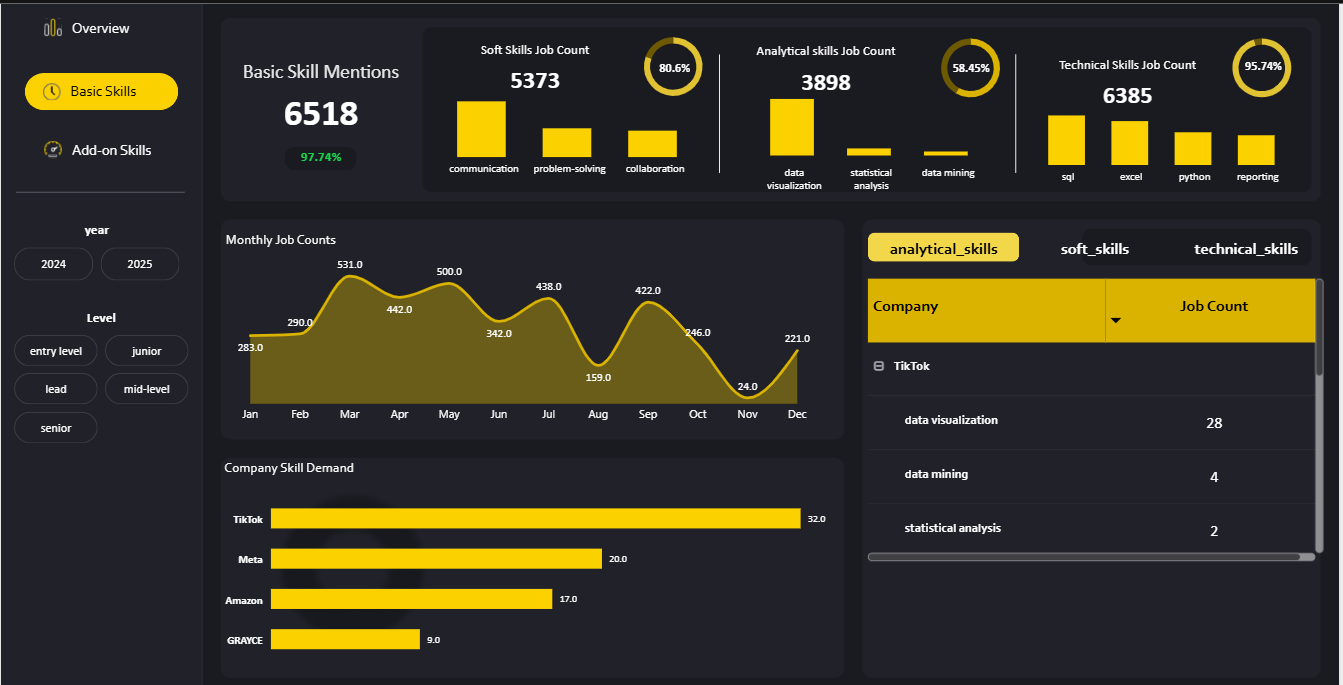

This screenshot's page, from the dashboard's own definition file:
{"tool":"powerbi","page":{"name":"Basic Skills","canvas":[1460,800],"ordinal":1},"visuals":[{"type":"donutChart","fields":{"Category":["MentionStatus.Status"],"Y":["MentionStatus.Soft Skill Split"]},"box":[680.6,68.7,106.2,90],"z":0},{"type":"donutChart","fields":{"Category":["MentionStatus.Status"],"Y":["MentionStatus.Analytical Skills % Split"]},"box":[1007,70.2,100.3,90.2],"z":1000},{"type":"donutChart","fields":{"Y":["MentionStatus.Technical Skills % Split"],"Category":["MentionStatus.Status"]},"box":[1325.5,70.2,100.3,90.2],"z":2000},{"type":"pivotTable","fields":{"Rows":["dim_company.company_name","dim_skills.skill_name"],"Values":["Measures (3).Job Count by Selected Skills"]},"box":[941.1,340.1,506.7,317.9],"z":3000},{"type":"clusteredBarChart","title":"Company Skill Demand","fields":{"Category":["dim_company.company_name"],"Y":["Measures (3).Job Count by Selected Skills"]},"box":[237.9,541.6,666.8,231.6],"z":4000},{"type":"cardVisual","fields":{"Data":["Measures (3).Skill Mentions"]},"box":[245.8,77.1,207.9,136.7],"z":5000},{"type":"shape","box":[309.7,200.2,78.5,25.8],"z":6000},{"type":"card","fields":{"Values":["Measures (3).Overall % of Skill Mentions"]},"box":[305,197,88,34],"z":7000},{"type":"shape","box":[777.5,98.9,13.1,129.4],"z":8000},{"type":"shape","box":[1099.8,98.9,13.1,129.4],"z":9000},{"type":"card","fields":{"Values":["Measures (3).Soft Skills % of All Jobs"]},"box":[687.8,88.4,93.1,55.3],"z":10000},{"type":"card","fields":{"Values":["Measures (3).Programming languages % of All Jobs"]},"box":[1020.1,92,77.1,49.4],"z":11000},{"type":"card","fields":{"Values":["Measures (3).Data Analysis % of All Jobs"]},"box":[1341.5,90.5,71.3,49.4],"z":12000},{"type":"cardVisual","fields":{"Data":["Measures (3).Soft Skills Job Count"]},"box":[471.2,60.7,222.5,106.2],"z":13000},{"type":"cardVisual","fields":{"Data":["Measures (3).Programming Languages Job Count"]},"box":[790,64.3,221.4,105.7],"z":14000},{"type":"cardVisual","fields":{"Data":["Measures (3).Data Analysis Job Count"]},"box":[1118.6,77.1,222.9,107.1],"z":15000},{"type":"clusteredColumnChart","fields":{"Category":["dim_skills.skill_name"],"Y":["CountNonNull(bridge_job_skill.job_id)"]},"box":[455.7,131.4,330,110],"z":16000},{"type":"areaChart","fields":{"Category":["dim_dates.full_date Hierarchy.Short Month"],"Y":["Measures (3).Job Count by Selected Skills"]},"box":[245.7,310,650,201.4],"z":17000},{"type":"advancedSlicerVisual","fields":{"Values":["dim_category.category_name"]},"box":[940.7,289.6,507.1,42.3],"z":18000},{"type":"actionButton","box":[25.8,120.3,167.6,40.6],"z":19000},{"type":"advancedSlicerVisual","fields":{"Values":["dim_dates.year"]},"box":[10,282,190,69],"z":23000},{"type":"advancedSlicerVisual","fields":{"Values":["dim_senority_level.seniority_level"]},"box":[10,377,200,151],"z":24000},{"type":"shape","box":[16.9,239.6,184.1,20.3],"z":25000},{"type":"shape","box":[237.4,0,276.8,40.6],"z":26000},{"type":"shape","box":[245.7,287.3,347,29.2],"z":27000},{"type":"actionButton","box":[0,0,100,40],"z":28000},{"type":"clusteredColumnChart","fields":{"Category":["dim_skills.skill_name"],"Y":["CountNonNull(bridge_job_skill.job_id)"]},"box":[782.9,128.6,315.7,130],"z":29000},{"type":"clusteredColumnChart","fields":{"Category":["dim_skills.skill_name"],"Y":["CountNonNull(bridge_job_skill.job_id)"]},"box":[1110,138.2,315.5,111.8],"z":30000},{"type":"actionButton","box":[26.7,183.3,166.7,41.7],"z":31000},{"type":"actionButton","box":[26.7,50,166.7,40],"z":32000}]}

Visuals, with their boxes on the page's 1460x800 design canvas (x1, y1, x2, y2). These are canvas units, not pixel positions in the 1343x685 screenshot, which may show the page scaled, cropped or inside an application window:
donutChart - MentionStatus.Status x MentionStatus.Soft Skill Split: {"left": 681, "top": 69, "right": 787, "bottom": 159}
donutChart - MentionStatus.Status x MentionStatus.Analytical Skills % Split: {"left": 1007, "top": 70, "right": 1107, "bottom": 160}
donutChart - MentionStatus.Technical Skills % Split x MentionStatus.Status: {"left": 1326, "top": 70, "right": 1426, "bottom": 160}
pivotTable - dim_company.company_name x dim_skills.skill_name: {"left": 941, "top": 340, "right": 1448, "bottom": 658}
"Company Skill Demand" clusteredBarChart: {"left": 238, "top": 542, "right": 905, "bottom": 773}
cardVisual - Measures (3).Skill Mentions: {"left": 246, "top": 77, "right": 454, "bottom": 214}
shape: {"left": 310, "top": 200, "right": 388, "bottom": 226}
card - Measures (3).Overall % of Skill Mentions: {"left": 305, "top": 197, "right": 393, "bottom": 231}
shape: {"left": 778, "top": 99, "right": 791, "bottom": 228}
shape: {"left": 1100, "top": 99, "right": 1113, "bottom": 228}
card - Measures (3).Soft Skills % of All Jobs: {"left": 688, "top": 88, "right": 781, "bottom": 144}
card - Measures (3).Programming languages % of All Jobs: {"left": 1020, "top": 92, "right": 1097, "bottom": 141}
card - Measures (3).Data Analysis % of All Jobs: {"left": 1342, "top": 90, "right": 1413, "bottom": 140}
cardVisual - Measures (3).Soft Skills Job Count: {"left": 471, "top": 61, "right": 694, "bottom": 167}
cardVisual - Measures (3).Programming Languages Job Count: {"left": 790, "top": 64, "right": 1011, "bottom": 170}
cardVisual - Measures (3).Data Analysis Job Count: {"left": 1119, "top": 77, "right": 1342, "bottom": 184}
clusteredColumnChart - dim_skills.skill_name x CountNonNull(bridge_job_skill.job_id): {"left": 456, "top": 131, "right": 786, "bottom": 241}
areaChart - dim_dates.full_date Hierarchy.Short Month x Measures (3).Job Count by Selected Skills: {"left": 246, "top": 310, "right": 896, "bottom": 511}
advancedSlicerVisual - dim_category.category_name: {"left": 941, "top": 290, "right": 1448, "bottom": 332}
actionButton: {"left": 26, "top": 120, "right": 193, "bottom": 161}
advancedSlicerVisual - dim_dates.year: {"left": 10, "top": 282, "right": 200, "bottom": 351}
advancedSlicerVisual - dim_senority_level.seniority_level: {"left": 10, "top": 377, "right": 210, "bottom": 528}
shape: {"left": 17, "top": 240, "right": 201, "bottom": 260}
shape: {"left": 237, "top": 0, "right": 514, "bottom": 41}
shape: {"left": 246, "top": 287, "right": 593, "bottom": 316}
actionButton: {"left": 0, "top": 0, "right": 100, "bottom": 40}
clusteredColumnChart - dim_skills.skill_name x CountNonNull(bridge_job_skill.job_id): {"left": 783, "top": 129, "right": 1099, "bottom": 259}
clusteredColumnChart - dim_skills.skill_name x CountNonNull(bridge_job_skill.job_id): {"left": 1110, "top": 138, "right": 1426, "bottom": 250}
actionButton: {"left": 27, "top": 183, "right": 193, "bottom": 225}
actionButton: {"left": 27, "top": 50, "right": 193, "bottom": 90}
